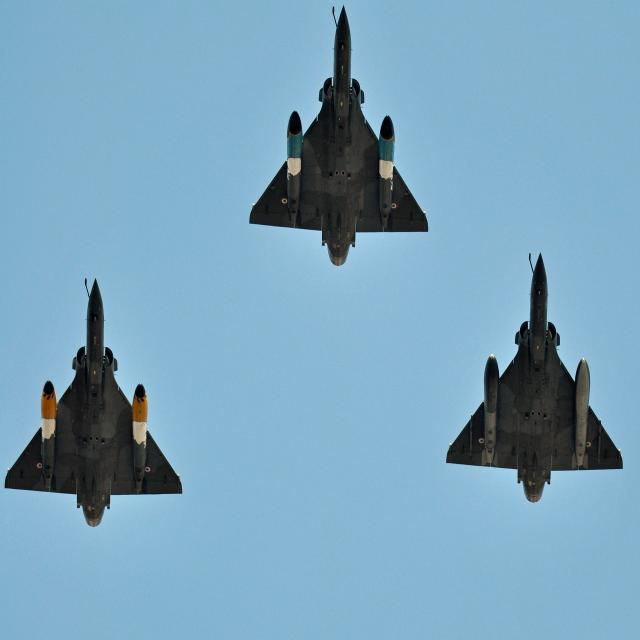MIL_Plane: (249, 5, 429, 266), (4, 277, 182, 527), (446, 252, 623, 502)
